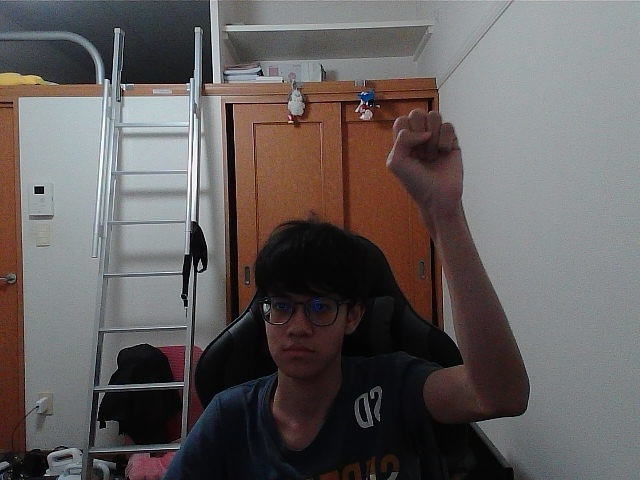closed_palm: (397, 114, 449, 191)
